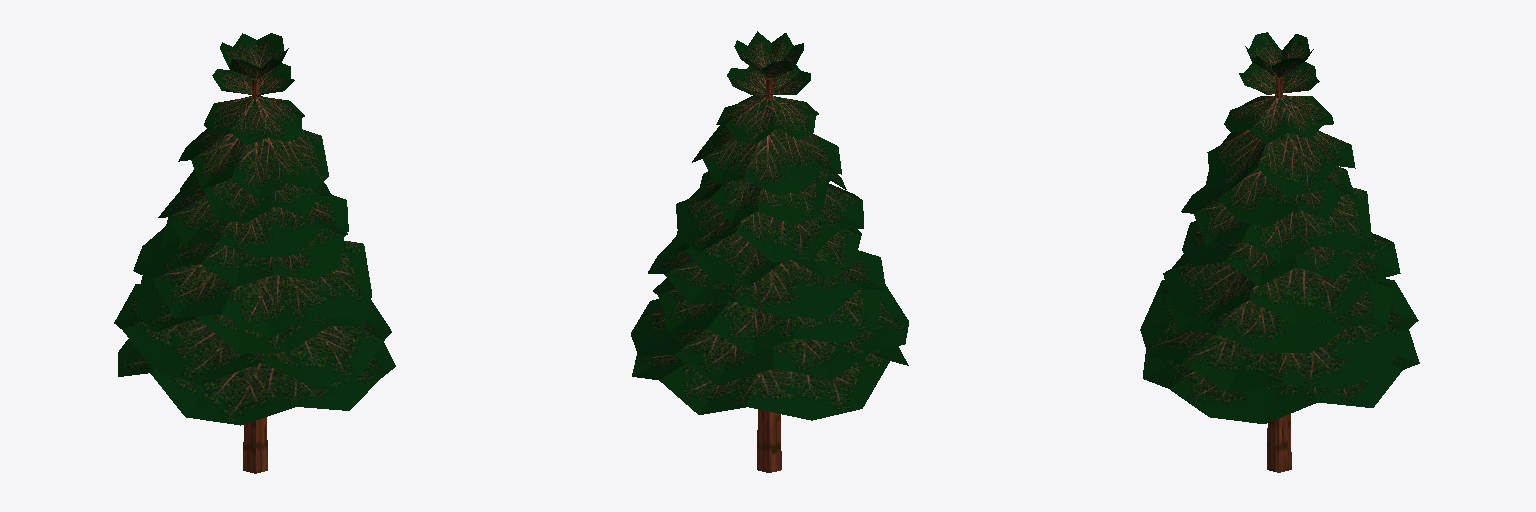
3 renders of one model, left to right at view 1: azimuth 30°, elevation 25°; view 2: azimuth 150°, elevation 25°; view 3: azimuth 270°, elevation 25°, orthographic.
Parts seen in each view (by area): view 1: NoName_1_Solid_9, NoName_1_Solid_8, NoName_1_Solid_2, NoName_1_Solid_10, NoName_1_Solid_7, NoName_1_Solid_3, NoName_1_Solid_1, NoName_1_Solid_5, NoName_1_Solid_6, NoName_1_Solid_11, NoName_1_Solid_12, NoName_2_Cylinder; view 2: NoName_1_Solid_8, NoName_1_Solid_2, NoName_1_Solid_9, NoName_1_Solid_1, NoName_1_Solid_10, NoName_1_Solid_7, NoName_1_Solid_3, NoName_1_Solid_6, NoName_1_Solid_5, NoName_1_Solid_11, NoName_1_Solid_12, NoName_2_Cylinder; view 3: NoName_1_Solid_8, NoName_1_Solid_9, NoName_1_Solid_2, NoName_1_Solid_10, NoName_1_Solid_7, NoName_1_Solid_1, NoName_1_Solid_6, NoName_1_Solid_3, NoName_1_Solid_5, NoName_1_Solid_11, NoName_1_Solid_12, NoName_2_Cylinder.
Boxes of the visible parts, box(x1,y1,x2,y2) form: NoName_1_Solid_9: box(133, 226, 371, 337); NoName_1_Solid_8: box(114, 284, 391, 388); NoName_1_Solid_2: box(118, 339, 395, 425); NoName_1_Solid_10: box(158, 185, 348, 257); NoName_1_Solid_7: box(178, 129, 328, 200); NoName_1_Solid_3: box(158, 219, 347, 286); NoName_1_Solid_1: box(136, 276, 371, 353); NoName_1_Solid_5: box(204, 96, 304, 144); NoName_1_Solid_6: box(180, 170, 331, 222); NoName_1_Solid_11: box(220, 33, 288, 78); NoName_1_Solid_12: box(212, 63, 294, 96); NoName_2_Cylinder: box(243, 78, 267, 473); NoName_1_Solid_8: box(631, 284, 908, 384); NoName_1_Solid_2: box(632, 346, 908, 420); NoName_1_Solid_9: box(648, 237, 885, 317); NoName_1_Solid_1: box(653, 278, 879, 354); NoName_1_Solid_10: box(676, 184, 863, 262); NoName_1_Solid_7: box(692, 125, 841, 193); NoName_1_Solid_3: box(672, 229, 861, 286); NoName_1_Solid_6: box(696, 168, 846, 224); NoName_1_Solid_5: box(716, 96, 818, 144); NoName_1_Solid_11: box(734, 31, 803, 77); NoName_1_Solid_12: box(727, 65, 810, 96); NoName_2_Cylinder: box(757, 77, 781, 472); NoName_1_Solid_8: box(1140, 279, 1418, 392); NoName_1_Solid_9: box(1163, 234, 1400, 325); NoName_1_Solid_2: box(1143, 330, 1419, 423); NoName_1_Solid_10: box(1181, 186, 1371, 262); NoName_1_Solid_7: box(1207, 130, 1355, 196); NoName_1_Solid_1: box(1162, 278, 1394, 353); NoName_1_Solid_6: box(1203, 166, 1354, 226); NoName_1_Solid_3: box(1182, 221, 1375, 285); NoName_1_Solid_5: box(1224, 95, 1333, 142); NoName_1_Solid_11: box(1245, 32, 1313, 78); NoName_1_Solid_12: box(1239, 62, 1319, 94); NoName_2_Cylinder: box(1267, 77, 1291, 472).
Bounding box in the file's own units: 6.47 × 10.85 × 6.51.
12 materials, 2 textured.